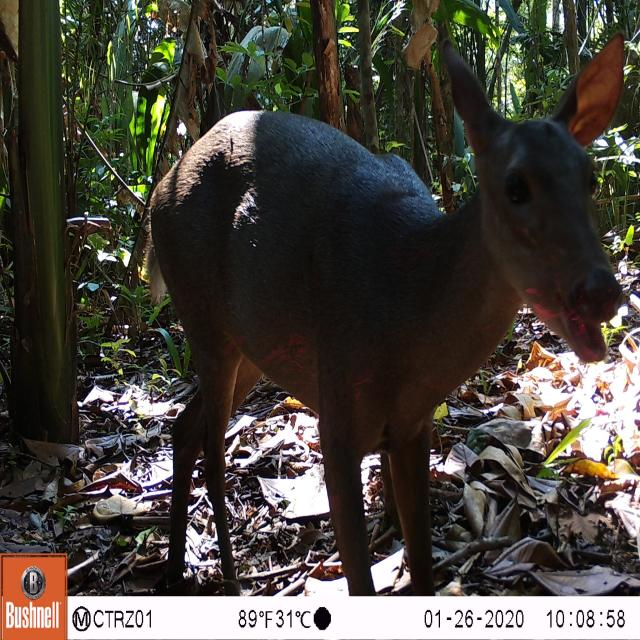White-tailed Deer: (116, 27, 635, 588)
